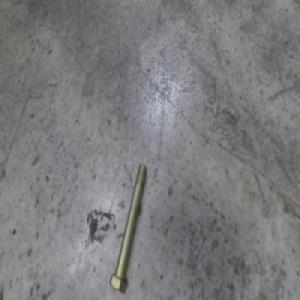Bolt: (111, 158, 148, 294)
